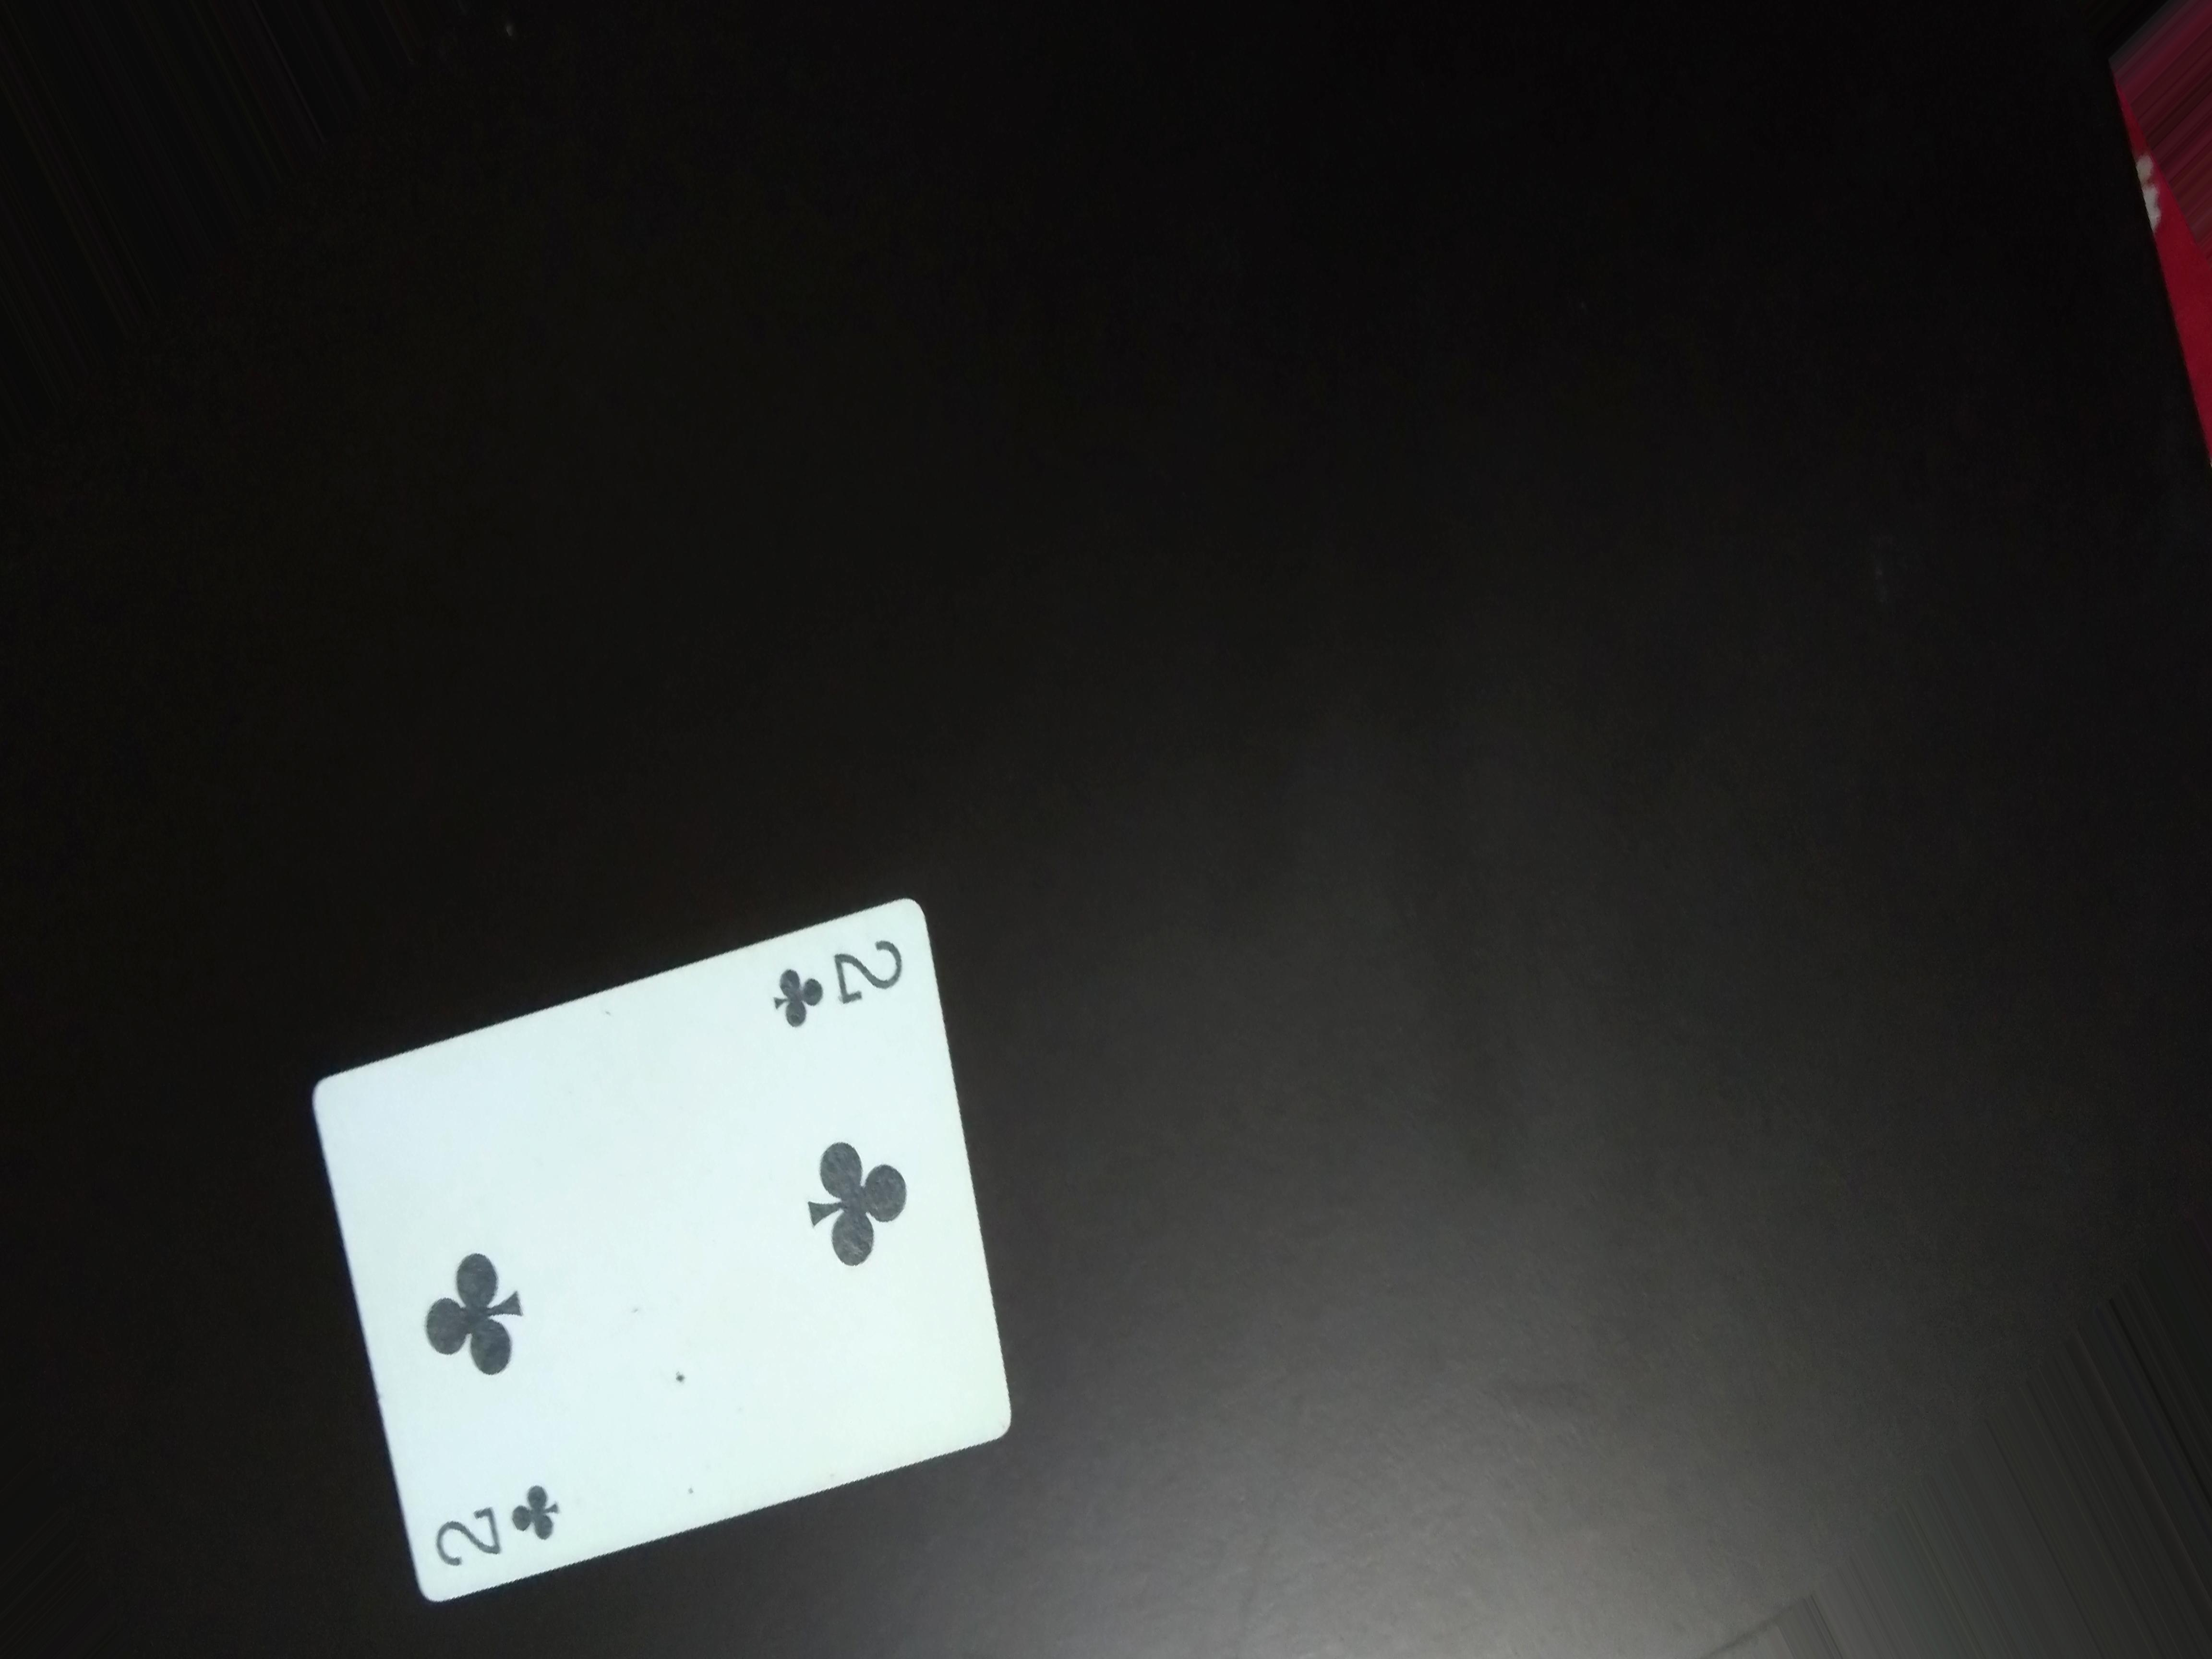2C: (770, 913, 899, 1046)
